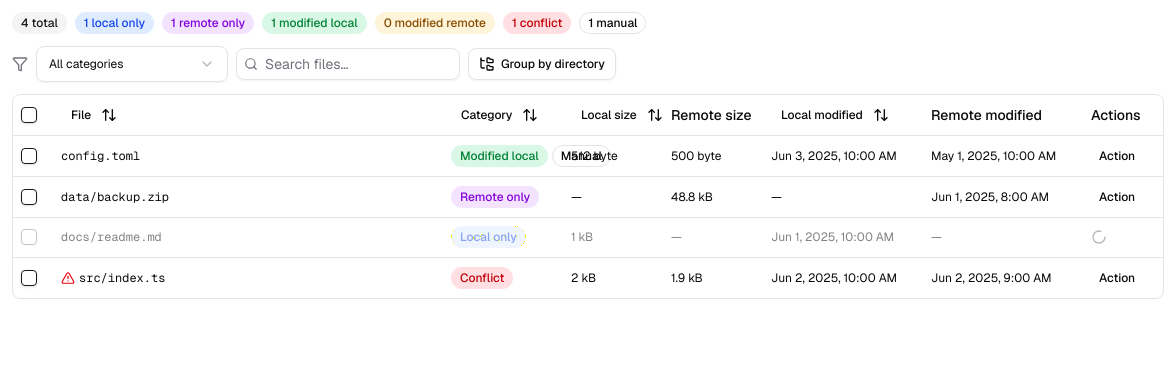
Test: FileBrowser pending row behavior › batch toolbar disabled when any pendingPaths exist
The width and height of the screenshot is (1164, 378).
Note: Select a non-pending file to trigger batch toolbar
Click the checkbox named "Select src/index.ts" at (29, 278), box [21,270,37,286]
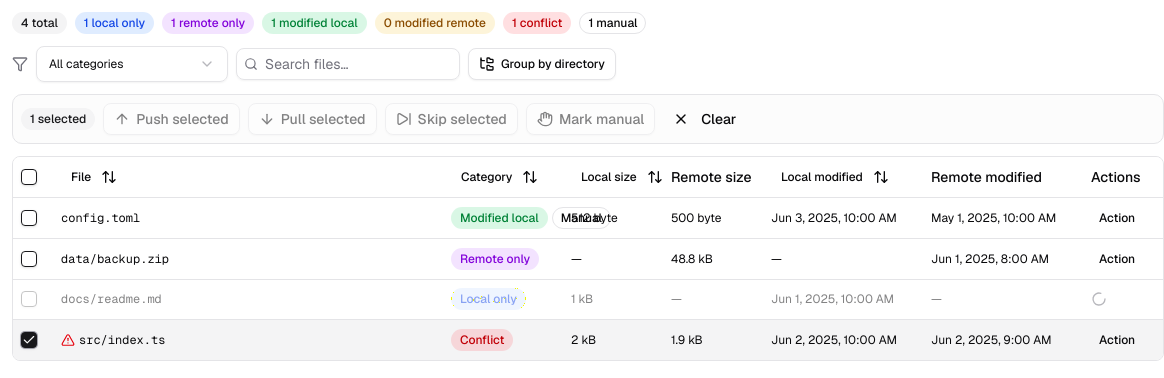
Now the button "Push selected" is disabled, box [103,103,240,135]
